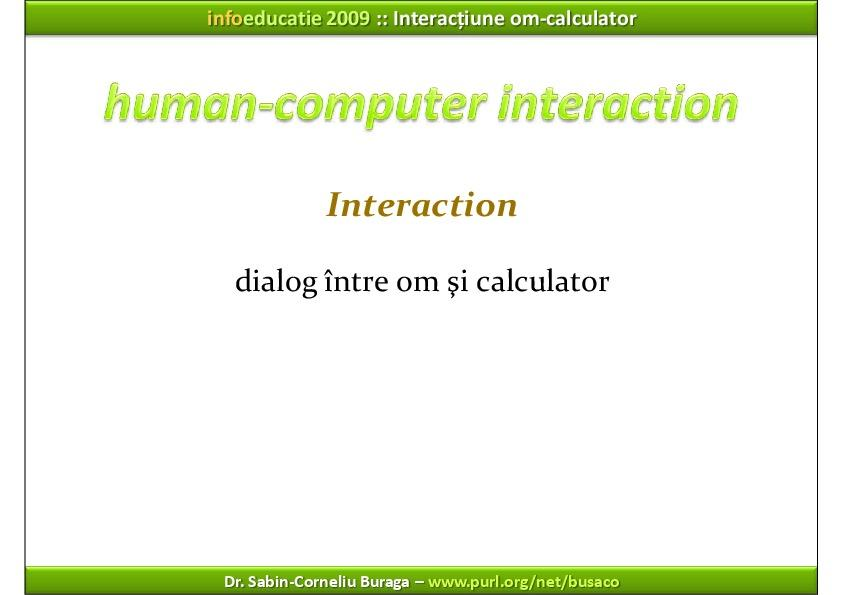subtitle: (90, 58, 765, 151), (227, 249, 636, 315), (304, 176, 549, 236)
title: (202, 2, 660, 46)
